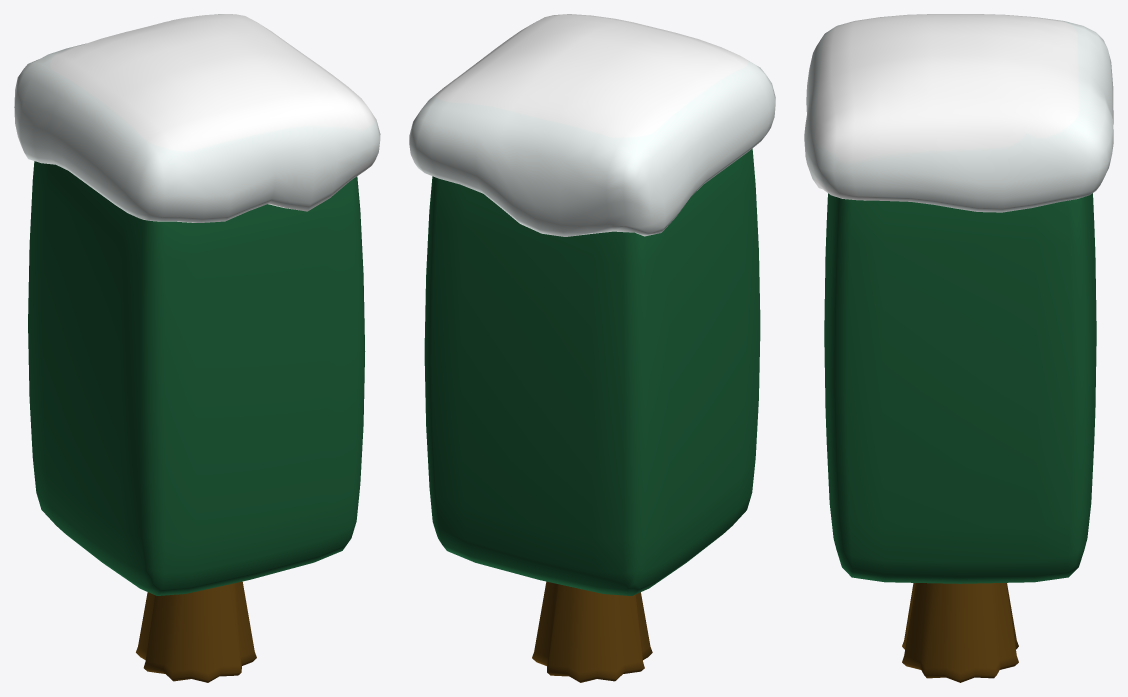
The model's file is Tree3_V1.fbx.
3 views of the same model, side by side, from view 1: azimuth 30°, elevation 25°; view 2: azimuth 150°, elevation 25°; view 3: azimuth 270°, elevation 25° (orthographic).
Visible parts, largest first — view 1: polySurface6; view 2: polySurface6; view 3: polySurface6.
Boxes of the visible parts, x1,y1,x2,y2 form: polySurface6: (14,14,380,682); polySurface6: (409,14,775,682); polySurface6: (804,14,1113,682).
Size of the model in its own units: 20.49 by 47.06 by 21.5.
1 material, 1 textured.
